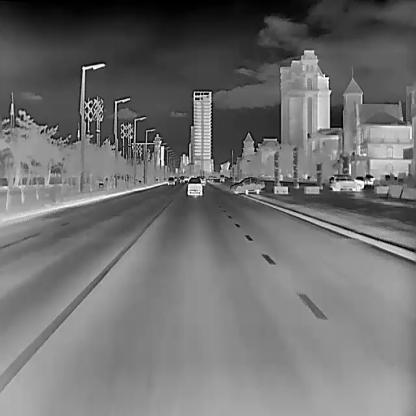car: (230, 176, 264, 195), (328, 173, 364, 189), (186, 176, 203, 198), (166, 175, 174, 185), (218, 172, 223, 182), (178, 175, 184, 183)
